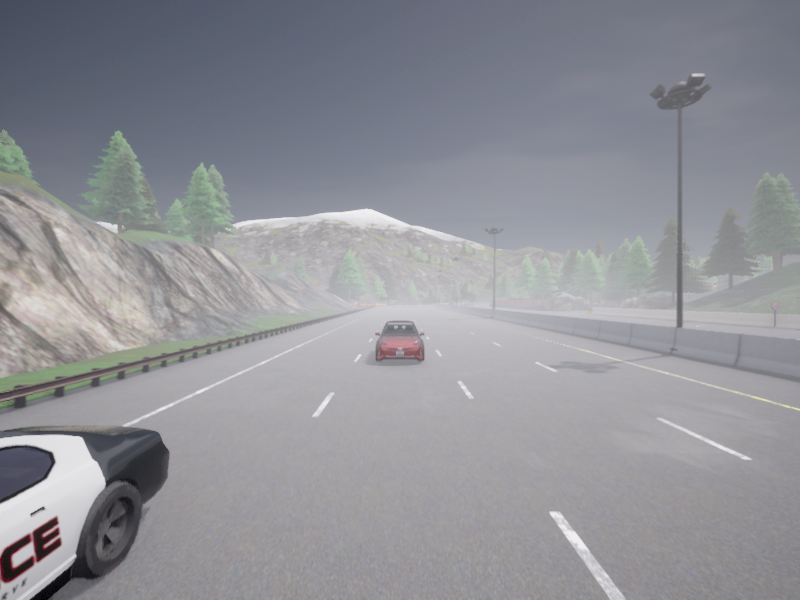vehicle: (0, 425, 169, 599), (375, 320, 424, 361), (463, 300, 469, 304), (467, 302, 472, 305), (449, 302, 453, 304), (461, 303, 464, 305)
